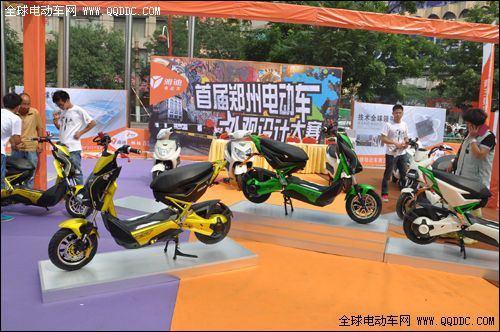non-vehicle: (53, 141, 227, 271), (236, 124, 382, 224), (402, 164, 496, 249), (3, 140, 90, 225)
